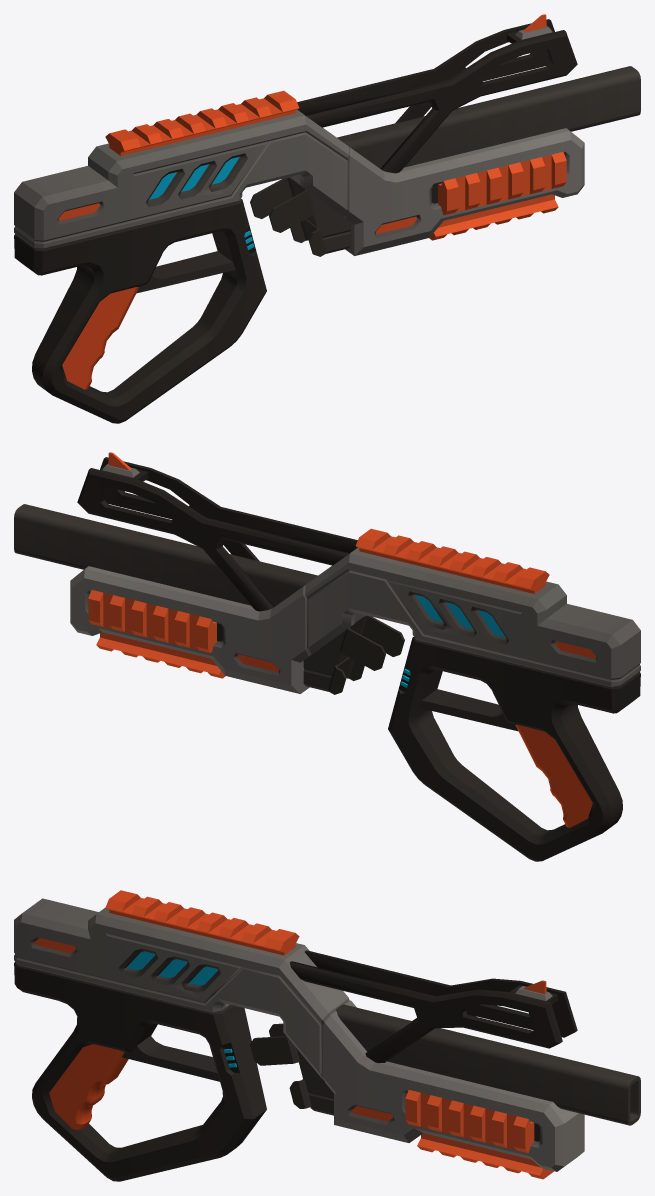
File: SMG6_Base.fbx
3 views of the same model, one above another, from view 1: azimuth 30°, elevation 25°; view 2: azimuth 150°, elevation 25°; view 3: azimuth 330°, elevation 25° (orthographic).
Parts seen in each view (by area): view 1: SMG6_Base; view 2: SMG6_Base; view 3: SMG6_Base.
Part boxes in pixels (box(x1,y1,x2,y2)): SMG6_Base: box(14, 14, 640, 423); SMG6_Base: box(14, 452, 640, 861); SMG6_Base: box(14, 890, 640, 1181).
Size of the model in its own units: 48.25 by 22.82 by 5.7.
